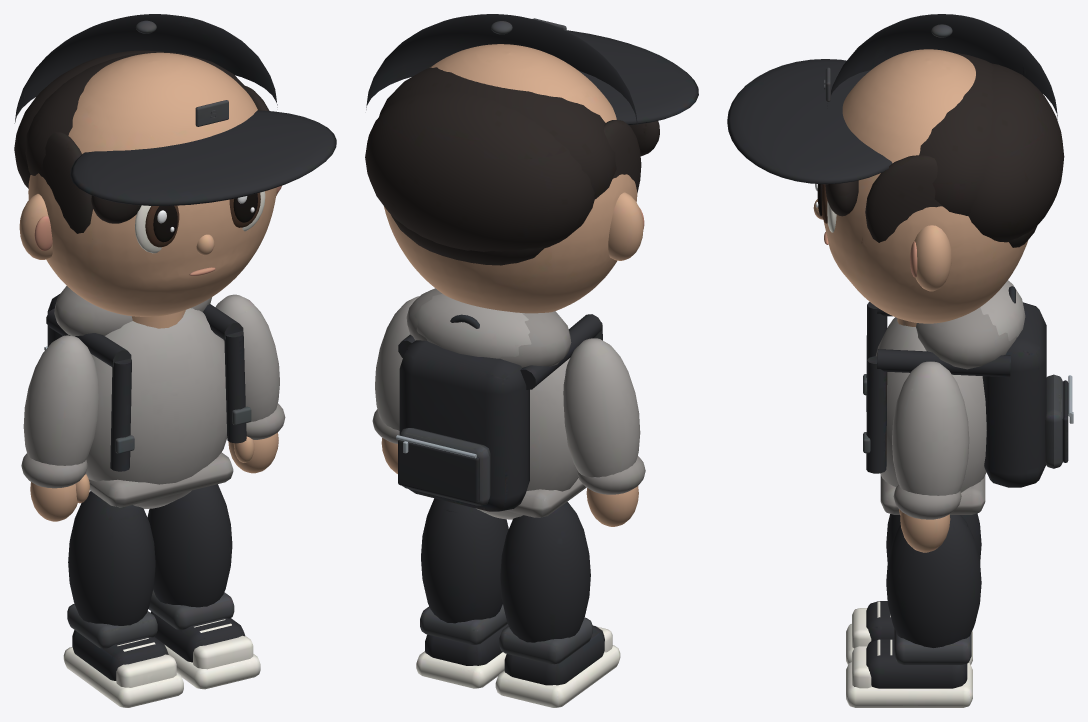
File: character.glb
The picture shows the model from 3 angles, left to right: view 1: azimuth 30°, elevation 25°; view 2: azimuth 150°, elevation 25°; view 3: azimuth 270°, elevation 25°; orthographic projection. The views are drawn at different scales.
Parts seen in each view (by area): view 1: Character — Skin peach, Character — Charcoal fabric, Character — Warm gray cotton, Leg_L — Charcoal fabric, Leg_R — Charcoal fabric, Character — Soft espresso hair, Sleeve L, Character — Ribbed cotton, Leg_L — Warm ivory, Sleeve R, Leg_R — Warm ivory, Pant cuff L (+11 smaller); view 2: Character — Soft espresso hair, Character — Charcoal fabric, Character — Skin peach, Leg_L — Charcoal fabric, Leg_R — Charcoal fabric, Character — Warm gray cotton, Sleeve L, Character — Ribbed cotton, Leg_L — Warm ivory, Sleeve R, Character — Raised fabric seams, Pant cuff L (+4 smaller); view 3: Character — Charcoal fabric, Character — Skin peach, Character — Soft espresso hair, Leg_R — Charcoal fabric, Sleeve R, Character — Warm gray cotton, Character — Ribbed cotton, Leg_R — Warm ivory, Character — Raised fabric seams, Pant cuff R, Leg_L — Charcoal fabric, Cuff R (+2 smaller).
Boxes of the visible parts, x1=… form: Character — Skin peach: x1=19, y1=52, x2=277, y2=328; Character — Charcoal fabric: x1=14, y1=14, x2=336, y2=471; Character — Warm gray cotton: x1=62, y1=286, x2=227, y2=508; Leg_L — Charcoal fabric: x1=68, y1=491, x2=168, y2=680; Leg_R — Charcoal fabric: x1=147, y1=484, x2=245, y2=662; Character — Soft espresso hair: x1=14, y1=50, x2=269, y2=233; Sleeve L: x1=23, y1=335, x2=98, y2=465; Character — Ribbed cotton: x1=54, y1=286, x2=233, y2=507; Leg_L — Warm ivory: x1=63, y1=638, x2=183, y2=707; Sleeve R: x1=215, y1=294, x2=279, y2=422; Leg_R — Warm ivory: x1=165, y1=619, x2=260, y2=689; Pant cuff L: x1=67, y1=604, x2=157, y2=648; Character — Soft espresso hair: x1=365, y1=67, x2=659, y2=265; Character — Charcoal fabric: x1=366, y1=14, x2=698, y2=511; Character — Skin peach: x1=384, y1=44, x2=643, y2=313; Leg_L — Charcoal fabric: x1=500, y1=502, x2=604, y2=685; Leg_R — Charcoal fabric: x1=421, y1=498, x2=508, y2=665; Character — Warm gray cotton: x1=414, y1=294, x2=578, y2=519; Sleeve L: x1=563, y1=338, x2=640, y2=477; Character — Ribbed cotton: x1=406, y1=288, x2=586, y2=517; Leg_L — Warm ivory: x1=495, y1=626, x2=620, y2=707; Sleeve R: x1=375, y1=296, x2=419, y2=430; Character — Raised fabric seams: x1=400, y1=18, x2=566, y2=505; Pant cuff L: x1=499, y1=617, x2=592, y2=664; Character — Charcoal fabric: x1=727, y1=14, x2=1068, y2=487; Character — Skin peach: x1=813, y1=49, x2=1028, y2=326; Character — Soft espresso hair: x1=825, y1=53, x2=1064, y2=247; Leg_R — Charcoal fabric: x1=866, y1=515, x2=981, y2=688; Sleeve R: x1=892, y1=361, x2=969, y2=495; Character — Warm gray cotton: x1=876, y1=280, x2=1025, y2=492; Character — Ribbed cotton: x1=880, y1=307, x2=1016, y2=514; Leg_R — Warm ivory: x1=846, y1=639, x2=972, y2=707; Character — Raised fabric seams: x1=825, y1=24, x2=1063, y2=468; Pant cuff R: x1=894, y1=629, x2=971, y2=664; Leg_L — Charcoal fabric: x1=866, y1=513, x2=981, y2=641; Cuff R: x1=893, y1=484, x2=961, y2=519.
Bounding box in the file's own units: 1.02 × 2.4 × 1.16.
14 materials, 13 textured.
